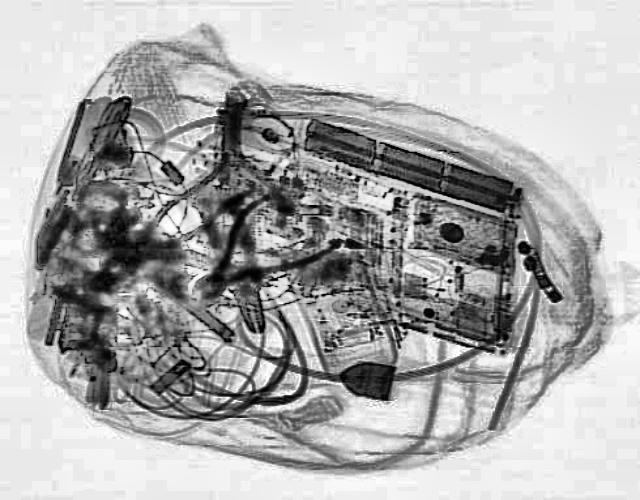Pliers: (159, 184, 347, 320), (94, 160, 260, 279), (194, 193, 278, 335)
